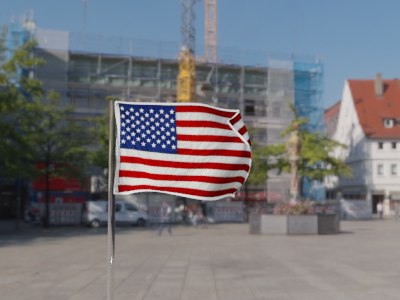America flag: (112, 99, 253, 202)
